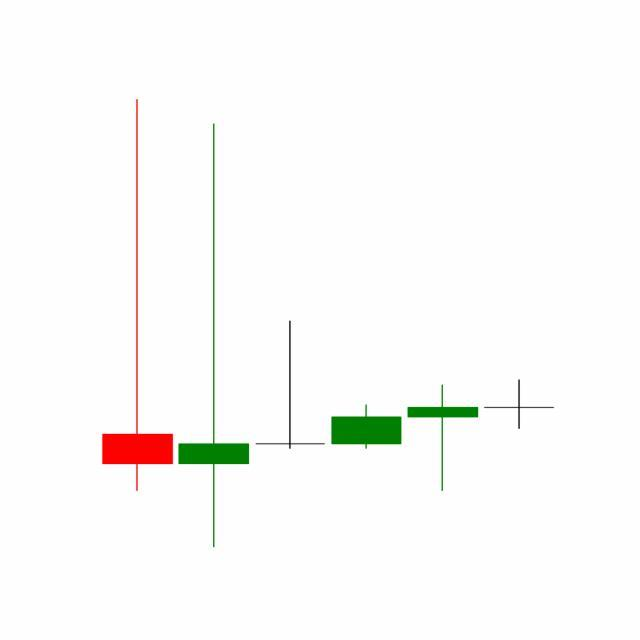Hammer: (404, 385, 482, 494)
